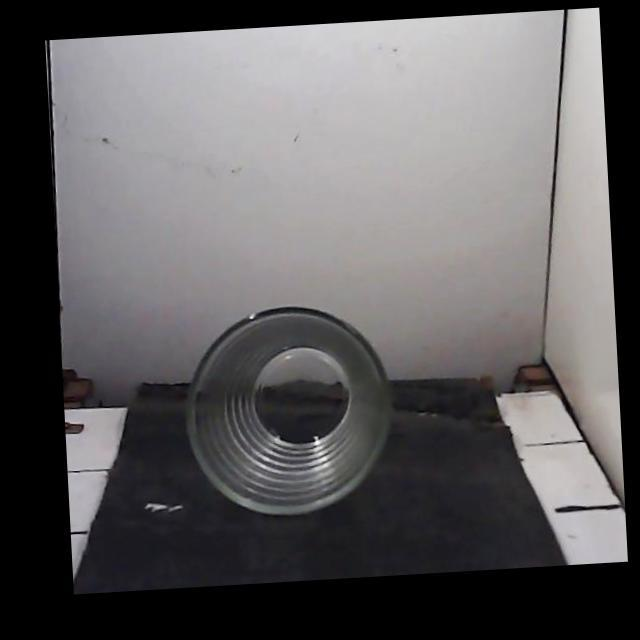vidro: (187, 308, 390, 514)
